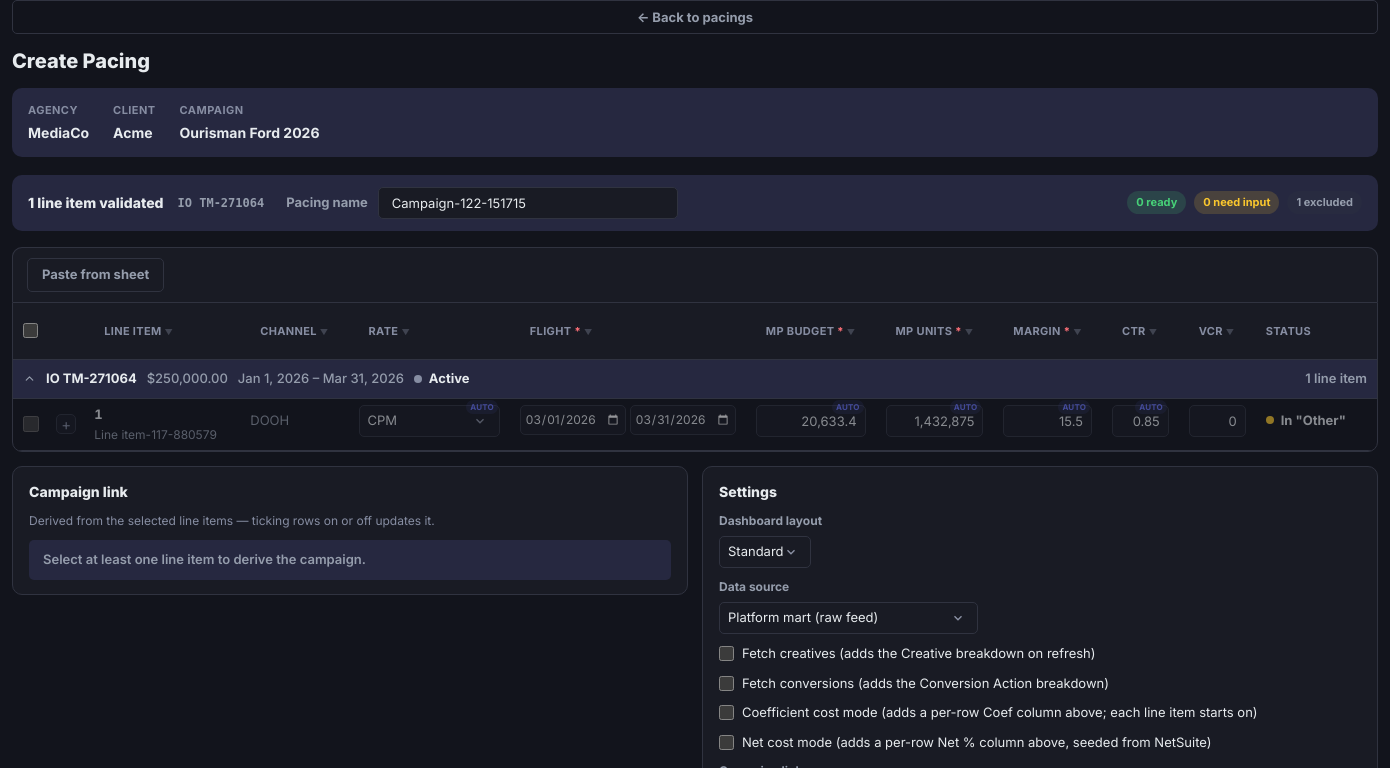
it: CreatePacingPanel › disables Create Pacing until at least one line item is included (US-123)
Check: the text "1" is shown, box x1=94 y1=406 x2=103 y2=422
Click the button named "Include line item 1" at (66, 424), box x1=56 y1=414 x2=76 y2=434
(page scrolled)
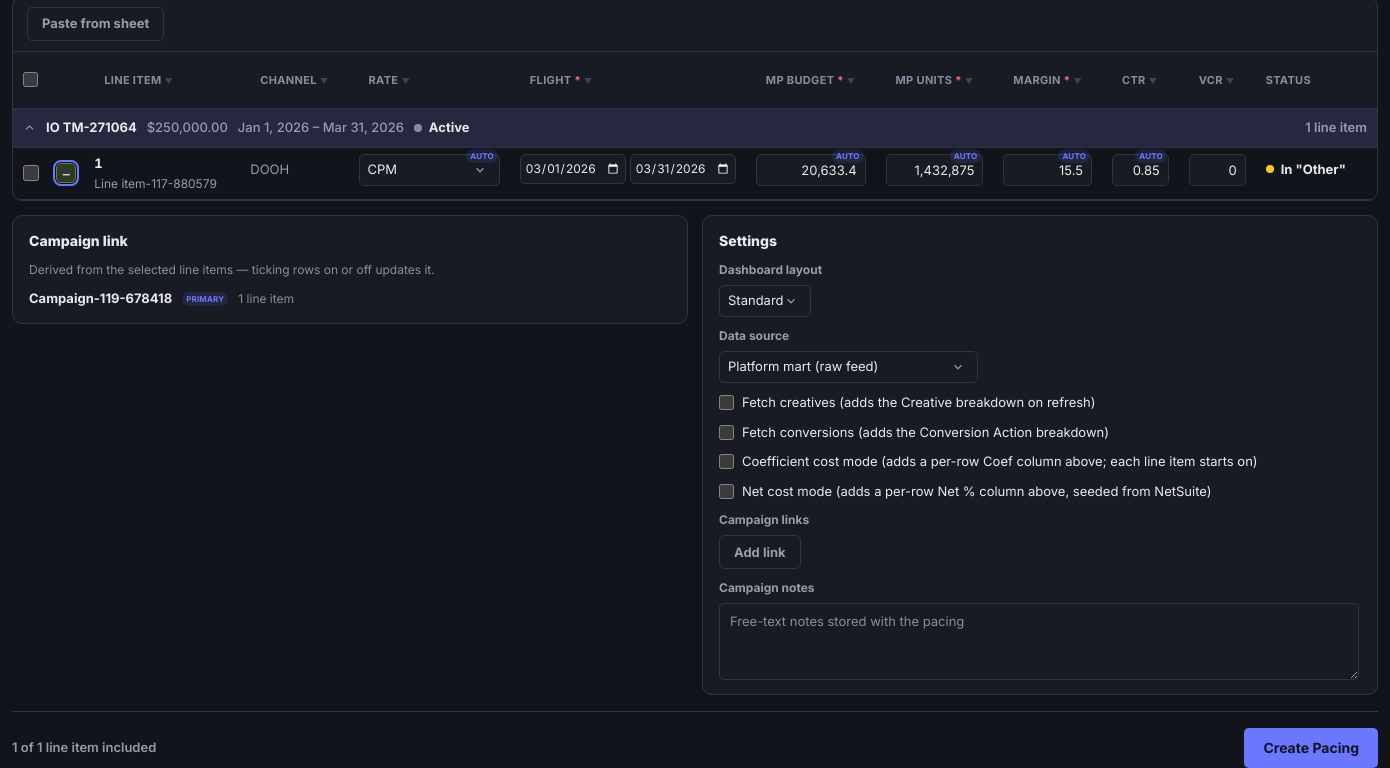
Check: the button "Create Pacing" is enabled, box x1=1244 y1=728 x2=1378 y2=767
